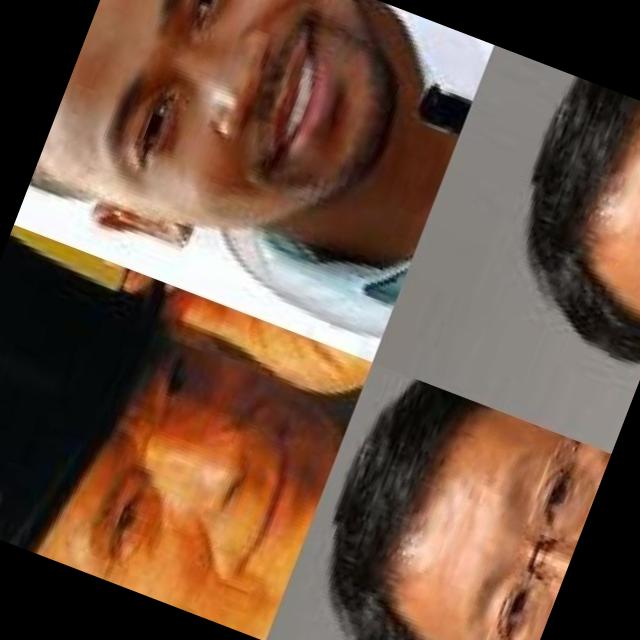bareface: (39, 0, 467, 285)
